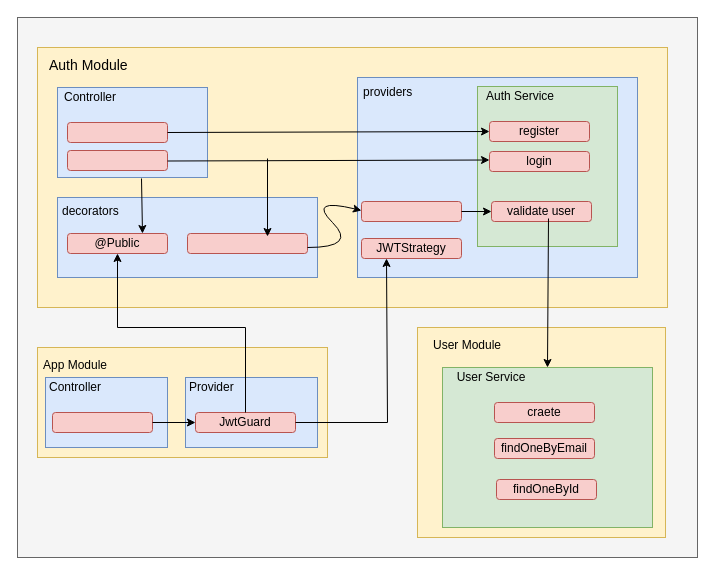
Some shapes in this 715 by 575 pixel diagram are drawn without their labels. Here are the shapes that lost their labels. From the top down, the box of each, then its label:
(66, 122, 168, 142): POST/Register
(66, 150, 168, 170): POST / Login
(360, 200, 462, 222): LocalStrategy
(186, 232, 308, 254): @AuthGuard('local)
(52, 412, 152, 432): GET /
